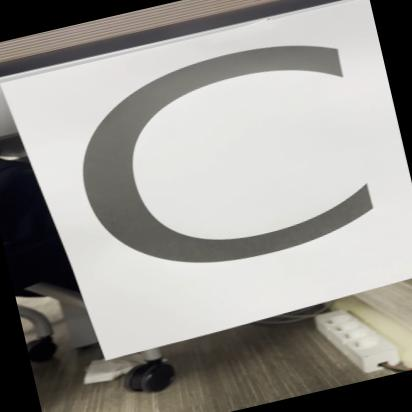seat: (0, 1, 412, 357)
